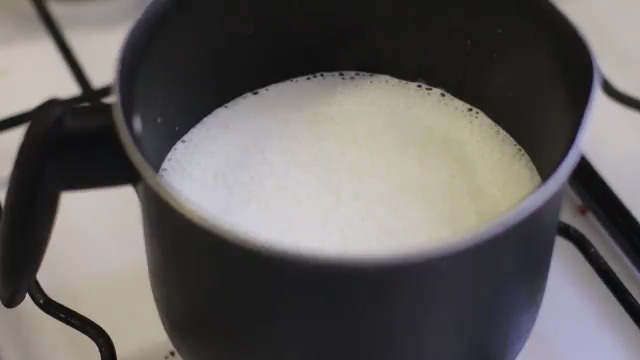Steaming: (113, 18, 569, 309)
